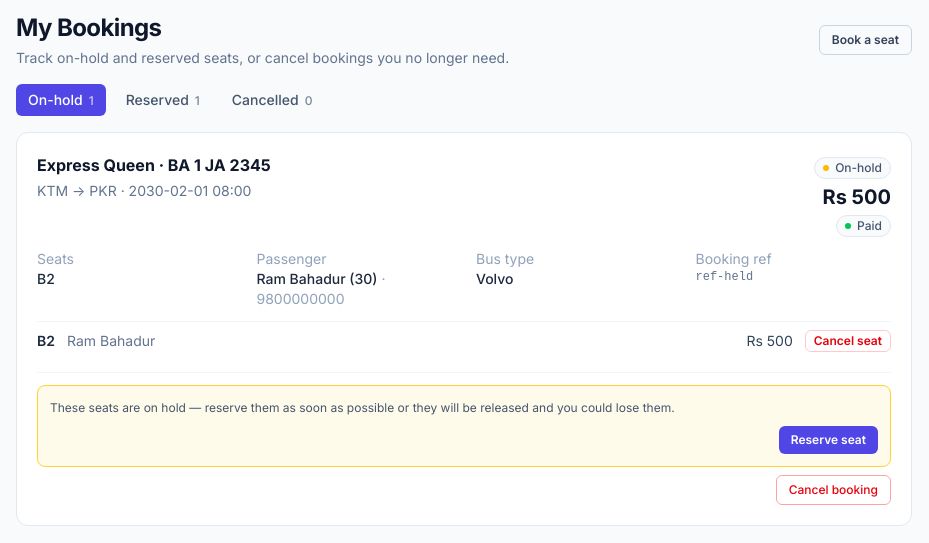
Test: MyBookingsPage › groups bookings under status tabs and shows booking details
The image size is (929, 543).
Expected: the heading "My Bookings" is shown, x1=16 y1=13 x2=161 y2=42
Expected: the text "Express Queen · BA 1 JA 2345" is shown, x1=37 y1=153 x2=271 y2=177
Click the button "Reserved1" at (163, 100), box x1=114 y1=84 x2=212 y2=116
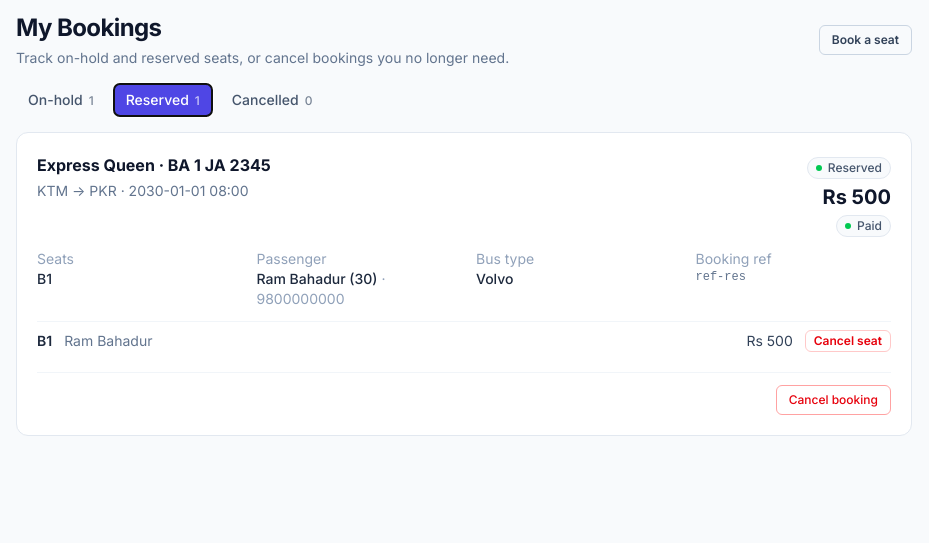
Expected: the button "Cancel booking" is shown, x1=776 y1=385 x2=891 y2=415
Now the text "2030-02-01 08:00" is gone
